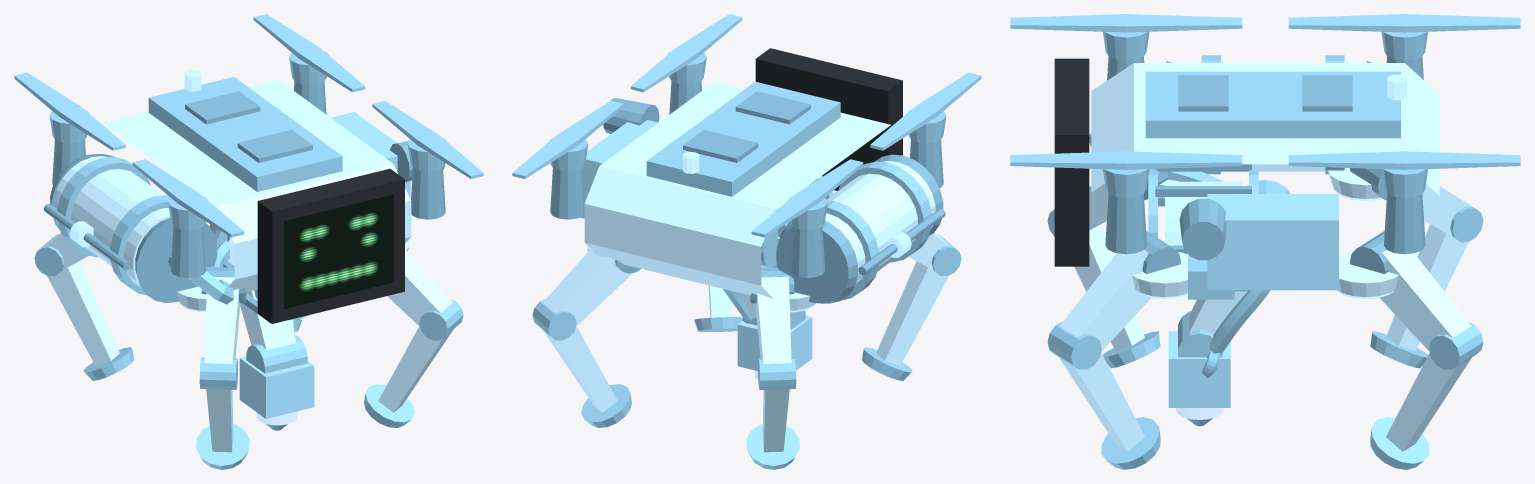
Rendered from isao_drone.glb.
3 views of the same model, side by side, from view 1: azimuth 30°, elevation 25°; view 2: azimuth 150°, elevation 25°; view 3: azimuth 270°, elevation 25° (orthographic). The views are drawn at different scales.
Parts seen in each view (by area): view 1: object 10, Isao_CRT, object 11, object 12, Head_Pitch, object 15, Rotor_RR_Spin, Rotor_RL_Spin, Rotor_FL_Spin, Rotor_FR_Spin, Boom_Pitch, object 14 (+1 smaller); view 2: object 10, object 11, object 12, Isao_CRT, object 15, Rotor_FR_Spin, Rotor_FL_Spin, Rotor_RL_Spin, Rotor_RR_Spin, Head_Pitch, object 14, Boom_Pitch (+1 smaller); view 3: object 10, object 11, object 12, object 14, Isao_CRT, object 15, Head_Pitch, Rotor_FL_Spin, Rotor_RL_Spin, Rotor_FR_Spin, Rotor_RR_Spin, Boom_Pitch (+1 smaller).
Boxes of the visible parts, x1=… form: object 10: x1=45, y1=79, x2=453, y2=452; Isao_CRT: x1=257, y1=168, x2=404, y2=323; object 11: x1=34, y1=77, x2=463, y2=389; object 12: x1=44, y1=81, x2=445, y2=323; Head_Pitch: x1=239, y1=335, x2=314, y2=430; object 15: x1=83, y1=241, x2=414, y2=469; Rotor_RR_Spin: x1=253, y1=14, x2=365, y2=92; Rotor_RL_Spin: x1=14, y1=72, x2=125, y2=150; Rotor_FL_Spin: x1=132, y1=159, x2=244, y2=237; Rotor_FR_Spin: x1=372, y1=101, x2=483, y2=178; Boom_Pitch: x1=209, y1=224, x2=296, y2=350; object 14: x1=331, y1=112, x2=410, y2=198; object 10: x1=542, y1=82, x2=950, y2=452; object 11: x1=532, y1=81, x2=961, y2=389; object 12: x1=550, y1=81, x2=945, y2=303; Isao_CRT: x1=755, y1=48, x2=902, y2=190; object 15: x1=581, y1=236, x2=912, y2=469; Rotor_FR_Spin: x1=630, y1=14, x2=742, y2=92; Rotor_FL_Spin: x1=870, y1=72, x2=981, y2=150; Rotor_RL_Spin: x1=751, y1=159, x2=863, y2=237; Rotor_RR_Spin: x1=512, y1=101, x2=623, y2=178; Head_Pitch: x1=737, y1=310, x2=812, y2=380; object 14: x1=580, y1=120, x2=658, y2=218; Boom_Pitch: x1=723, y1=229, x2=778, y2=320; object 10: x1=1059, y1=63, x2=1471, y2=451; object 11: x1=1047, y1=55, x2=1483, y2=369; object 12: x1=1105, y1=56, x2=1425, y2=291; object 14: x1=1207, y1=194, x2=1338, y2=290; Isao_CRT: x1=1054, y1=58, x2=1089, y2=266; object 15: x1=1089, y1=133, x2=1429, y2=469; Head_Pitch: x1=1168, y1=310, x2=1230, y2=426; Rotor_FL_Spin: x1=1010, y1=14, x2=1242, y2=60; Rotor_RL_Spin: x1=1288, y1=14, x2=1520, y2=60; Rotor_FR_Spin: x1=1010, y1=151, x2=1242, y2=197; Rotor_RR_Spin: x1=1288, y1=151, x2=1520, y2=197; Boom_Pitch: x1=1189, y1=179, x2=1290, y2=353.
Bounding box in the file's own units: 0.6444 × 0.55 × 0.7371.
28 materials, 1 textured.
